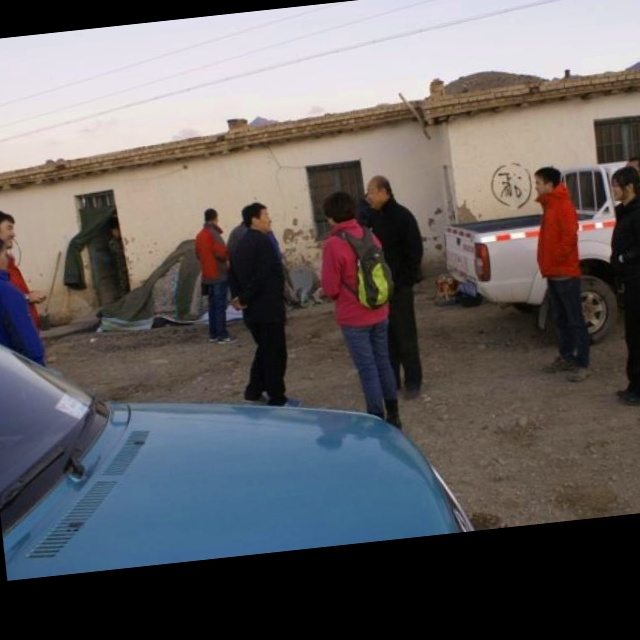Sin_Casco_Mascarrilla: (239, 201, 273, 236), (368, 174, 395, 209)
Sin_Chaleco: (318, 224, 390, 327), (529, 194, 584, 279)
